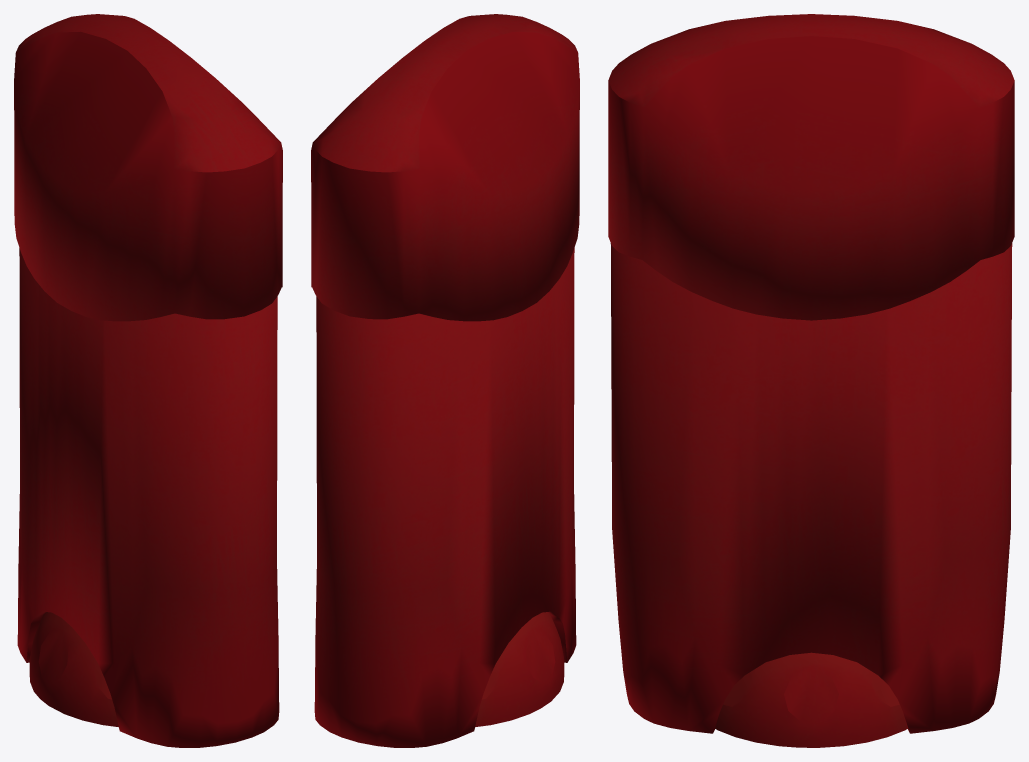
File: Deodorant.glb
3 renders of one model, left to right at view 1: azimuth 30°, elevation 25°; view 2: azimuth 150°, elevation 25°; view 3: azimuth 270°, elevation 25°, orthographic. The views are drawn at different scales.
Visible parts, largest first — view 1: model_low; view 2: model_low; view 3: model_low.
Boxes of the visible parts, <box> form: model_low: <box>14,14,282,747</box>; model_low: <box>311,14,579,747</box>; model_low: <box>608,14,1014,747</box>.
Bounding box in the file's own units: 0.039 × 0.115 × 0.0629.
Materials: 1 (1 with a texture image).
